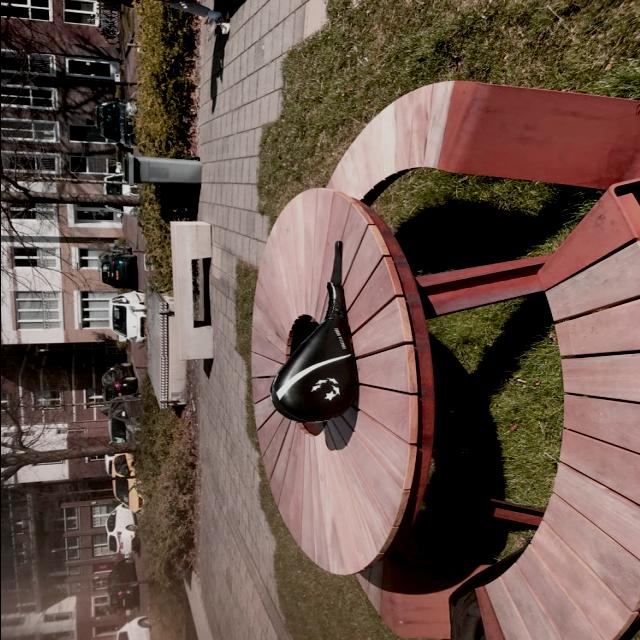paddle: (265, 280, 361, 424)
